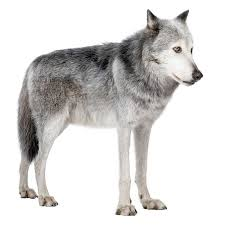Lobo: (13, 6, 206, 218)
